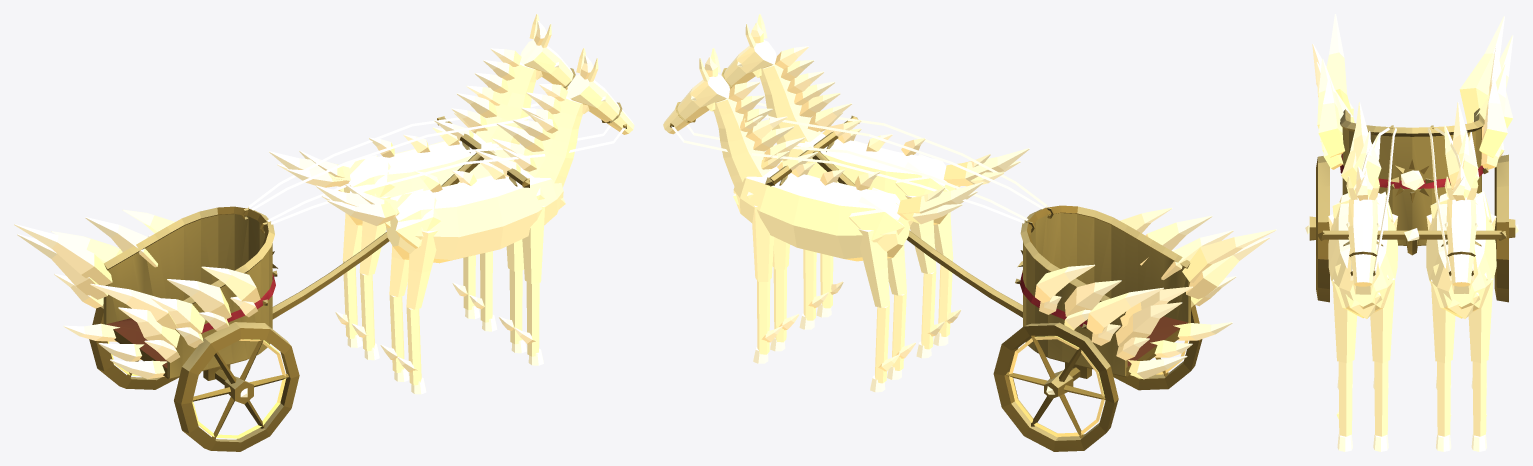
The model's file is mt_chariot_white.glb.
3 views of the same model, side by side, from view 1: azimuth 30°, elevation 25°; view 2: azimuth 150°, elevation 25°; view 3: azimuth 270°, elevation 25° (orthographic). The views are drawn at different scales.
Parts seen in each view (by area): view 1: base, flame_m, wheelR_m, head1_m, head0_m, leg7_m, leg5_m, leg3_m, leg6_m, leg2_m, leg4_m, wheelL_m (+2 smaller); view 2: base, flame_m, wheelL_m, head0_m, head1_m, leg2_m, leg0_m, leg6_m, leg3_m, leg7_m, leg1_m, wheelR_m (+2 smaller); view 3: base, flame_m, head1_m, head0_m, leg4_m, leg0_m, leg5_m, leg1_m, wheelL_m, wheelR_m.
Part boxes in pixels (x1,y1,x2,y2): base: (103,103,625,384); flame_m: (14,21,593,378); wheelR_m: (174,322,299,451); head1_m: (525,48,634,187); head0_m: (475,14,575,144); leg7_m: (397,230,437,394); leg5_m: (514,206,544,365); leg3_m: (352,196,390,360); leg6_m: (380,246,409,381); leg2_m: (335,213,362,347); leg4_m: (498,239,526,353); wheelL_m: (89,304,179,389); base: (671,102,1190,381); flame_m: (704,22,1276,379); wheelL_m: (993,322,1118,451); head0_m: (663,48,772,186); head1_m: (721,14,821,144); leg2_m: (858,229,899,392); leg0_m: (752,205,782,363); leg6_m: (905,195,944,358); leg3_m: (887,244,915,379); leg7_m: (933,212,961,345); leg1_m: (770,237,799,351); wheelR_m: (1113,300,1202,390); base: (1317,108,1506,318); flame_m: (1312,14,1513,239); head1_m: (1346,176,1379,294); head0_m: (1444,176,1478,293); leg4_m: (1370,278,1394,451); leg0_m: (1468,278,1493,451); leg5_m: (1332,279,1357,451); leg1_m: (1431,279,1455,451); wheelL_m: (1494,154,1518,302); wheelR_m: (1305,156,1329,302).
Size of the model in its own units: 1.51 by 0.7655 by 0.4781.
